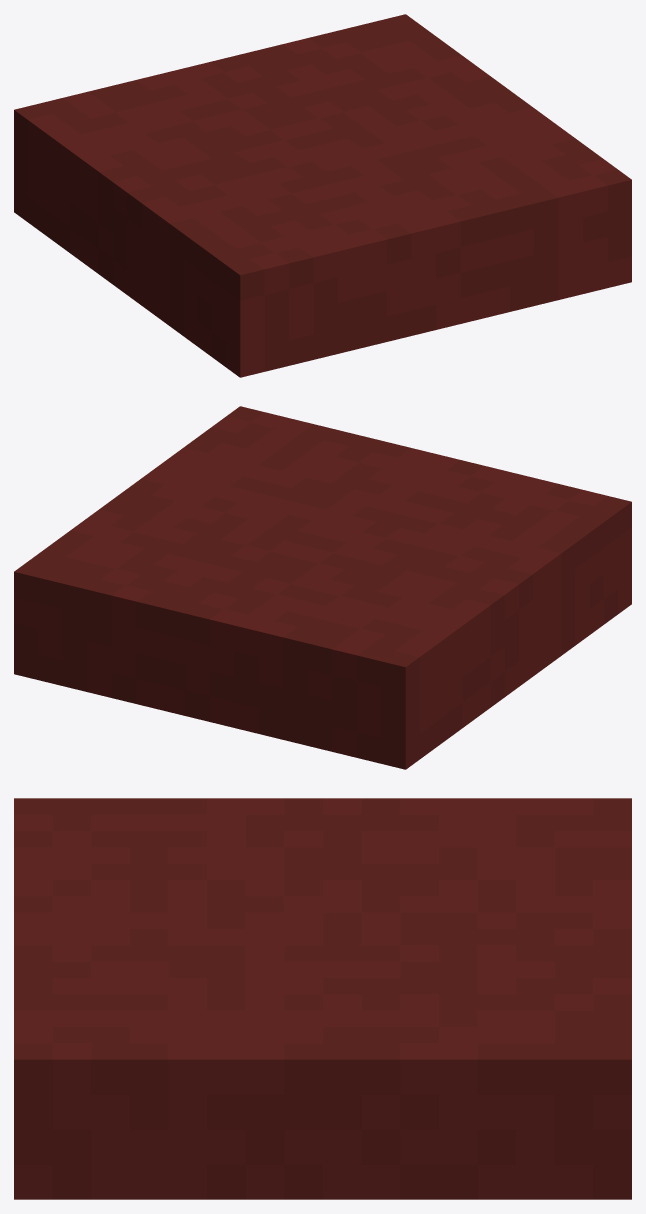
The model's file is tavern-30-roof_redtop.obj.
The picture shows the model from 3 angles, top to bottom: view 1: azimuth 30°, elevation 25°; view 2: azimuth 150°, elevation 25°; view 3: azimuth 270°, elevation 25°; orthographic projection. The views are drawn at different scales.
Visible parts, largest first — view 1: roof_redtop; view 2: roof_redtop; view 3: roof_redtop.
Boxes of the visible parts, bbox=[...] form: roof_redtop: bbox=[14, 14, 631, 377]; roof_redtop: bbox=[14, 406, 631, 769]; roof_redtop: bbox=[14, 798, 631, 1199].
Size of the model in its own units: 1.6 by 0.4 by 1.6.
Materials: 1 (1 with a texture image).
